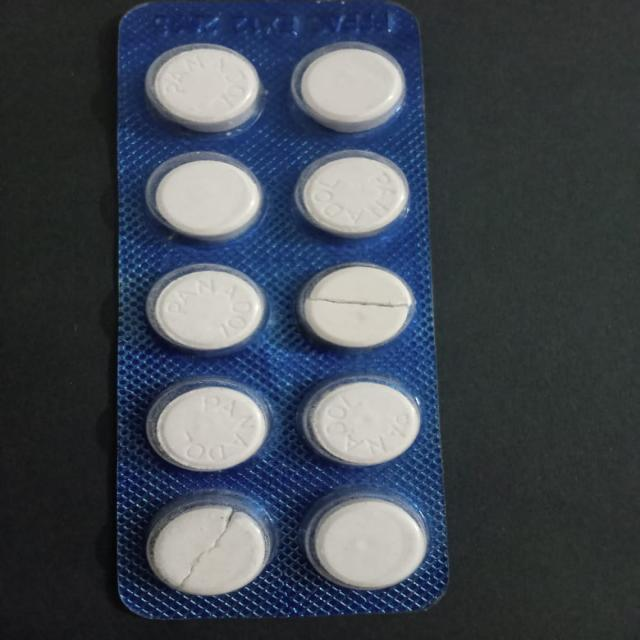defect: (143, 497, 280, 598), (296, 262, 421, 352)
